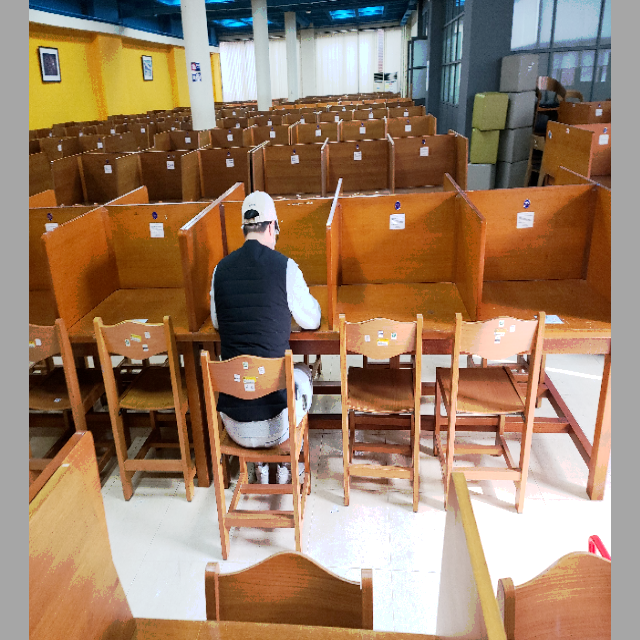empty: (334, 192, 478, 416), (487, 189, 610, 420)
full: (189, 182, 325, 446)
